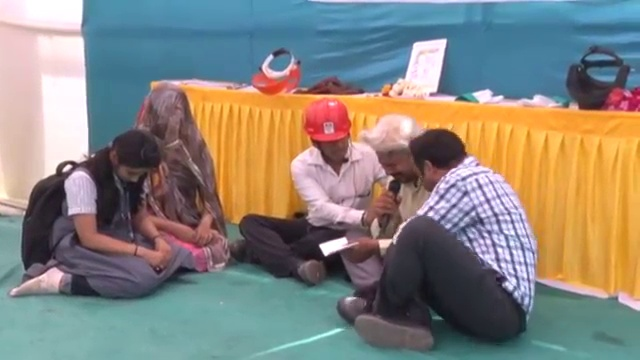helmet: (298, 98, 358, 141)
helmet_off: (407, 132, 473, 192), (369, 113, 418, 188), (99, 131, 164, 187), (141, 86, 196, 151)
helmet_on: (299, 101, 358, 169)
person: (335, 132, 537, 353), (7, 129, 191, 302), (231, 86, 384, 287), (126, 79, 227, 272), (336, 108, 430, 294)
